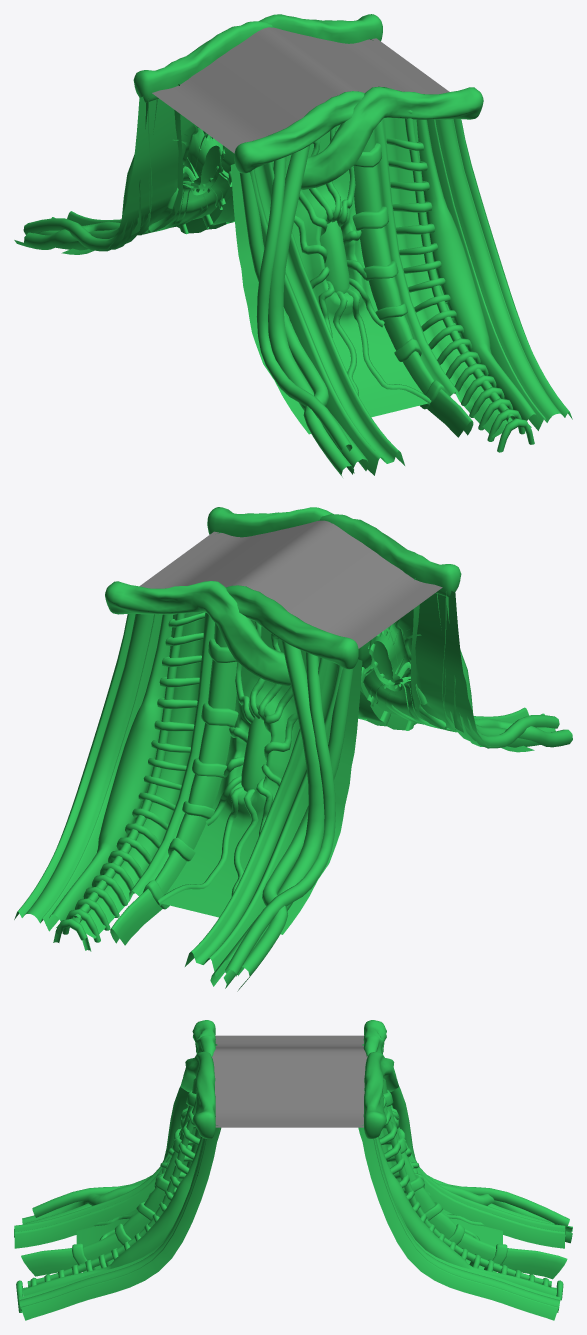
The model's file is Track_alien_16.fbx.
The picture shows the model from 3 angles, top to bottom: view 1: azimuth 30°, elevation 25°; view 2: azimuth 150°, elevation 25°; view 3: azimuth 270°, elevation 25°; orthographic projection. The views are drawn at different scales.
Parts seen in each view (by area): view 1: Side_Rock_016, Road_016; view 2: Side_Rock_016, Road_016; view 3: Side_Rock_016, Road_016.
Part boxes in pixels (bbox=[...]): Side_Rock_016: bbox=[14, 14, 572, 477]; Road_016: bbox=[152, 27, 449, 153]; Side_Rock_016: bbox=[14, 507, 572, 991]; Road_016: bbox=[140, 520, 442, 648]; Side_Rock_016: bbox=[14, 1020, 572, 1320]; Road_016: bbox=[211, 1035, 367, 1127].
Size of what is drawn, in the model's own units: 3362 by 7700 by 3661.
